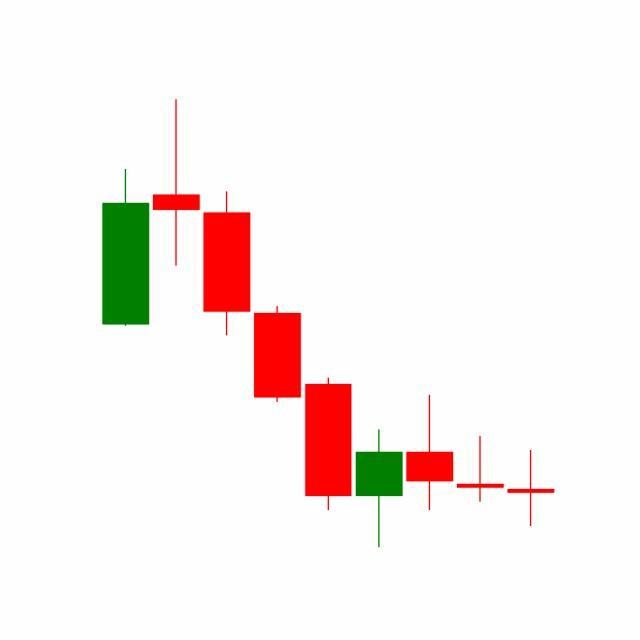Hikkake Pattern: (302, 375, 555, 549)
